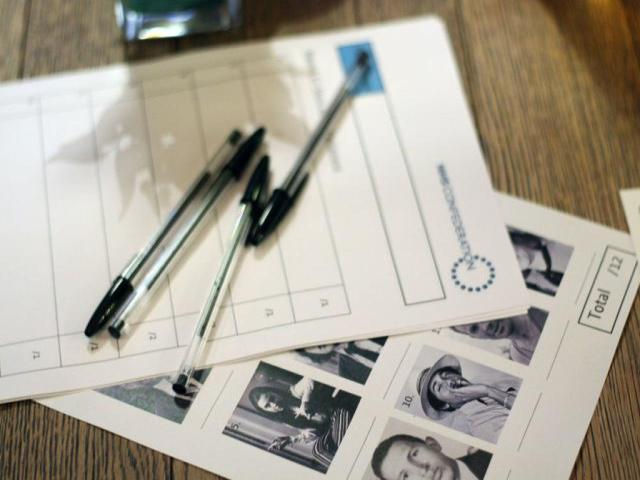PEN: (94, 113, 279, 412), (256, 38, 373, 247)
